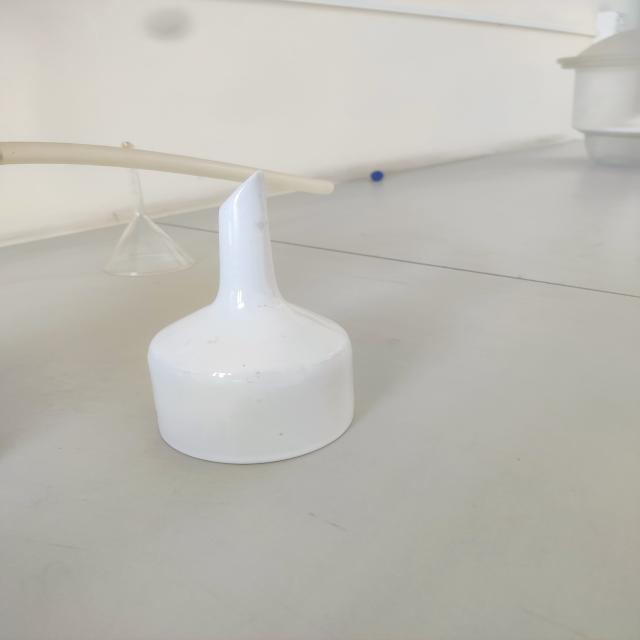Buchner_Funnel: (124, 144, 396, 495)
